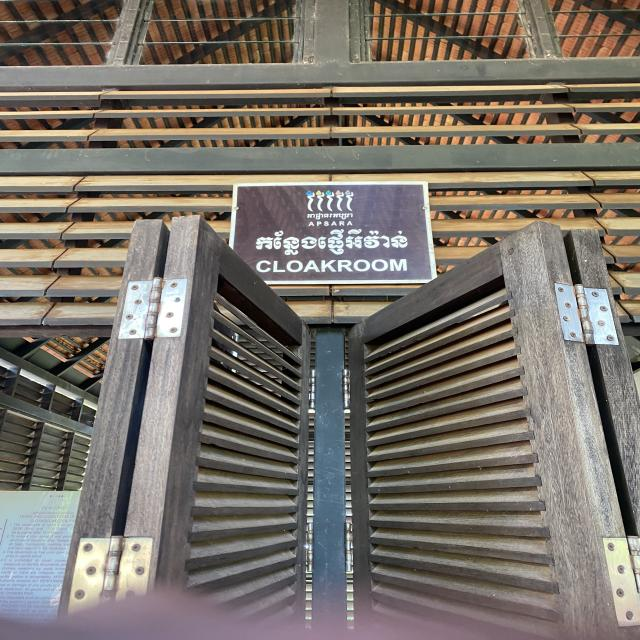Yolov11kh: (251, 227, 411, 257), (305, 211, 355, 221)
